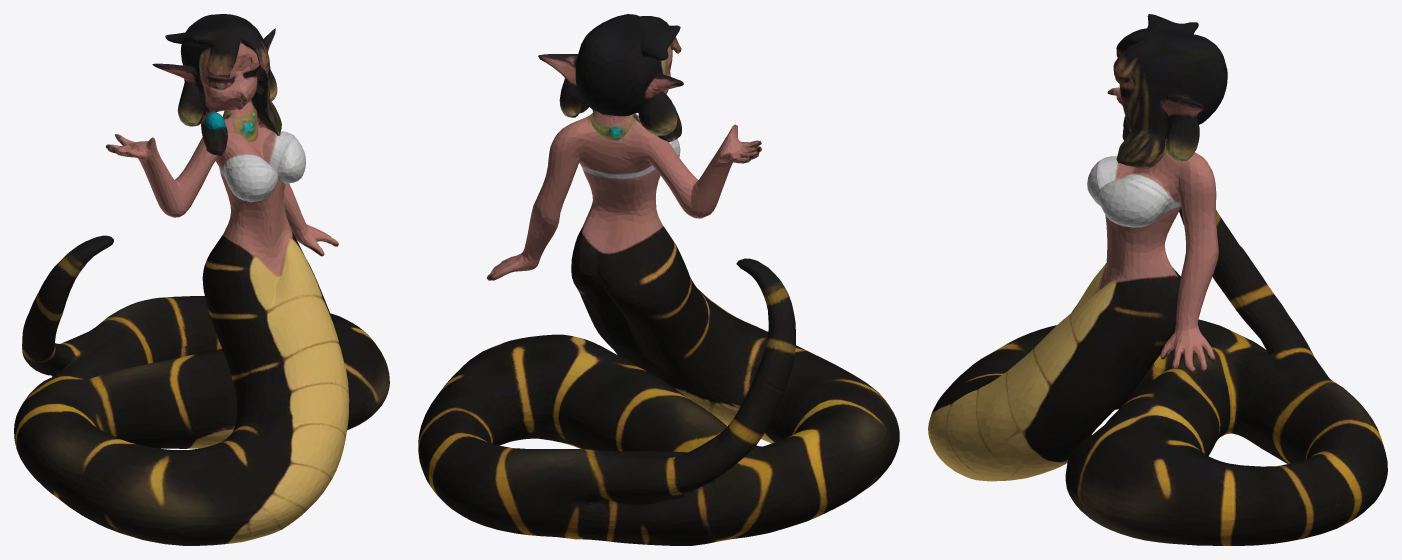
File: gilded-asp.glb
3 views of the same model, side by side, from view 1: azimuth 30°, elevation 25°; view 2: azimuth 150°, elevation 25°; view 3: azimuth 270°, elevation 25° (orthographic). The views are drawn at different scales.
Parts seen in each view (by area): view 1: MeshScale; view 2: MeshScale; view 3: MeshScale.
Part boxes in pixels (x1=…): MeshScale: x1=14, y1=14, x2=389, y2=545; MeshScale: x1=418, y1=14, x2=899, y2=545; MeshScale: x1=928, y1=14, x2=1387, y2=545.
Size of the model in its own units: 1.92 by 2.2 by 1.96.
Materials: 1 (1 with a texture image).
